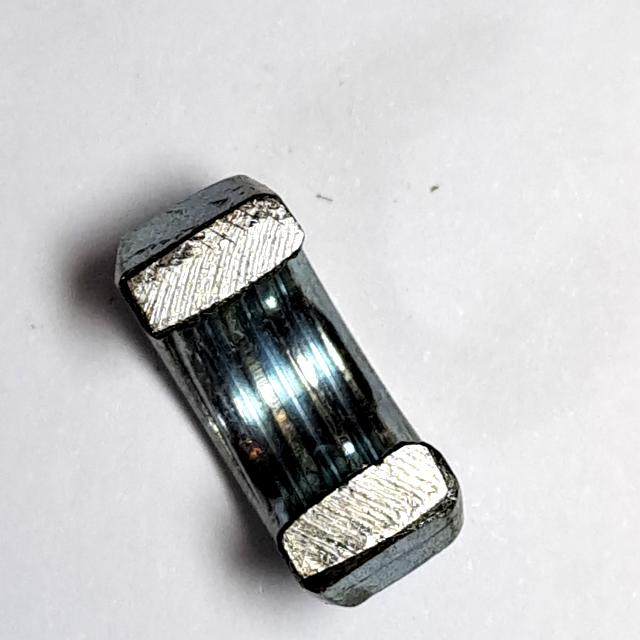Side-Fracture: (98, 171, 492, 620)
